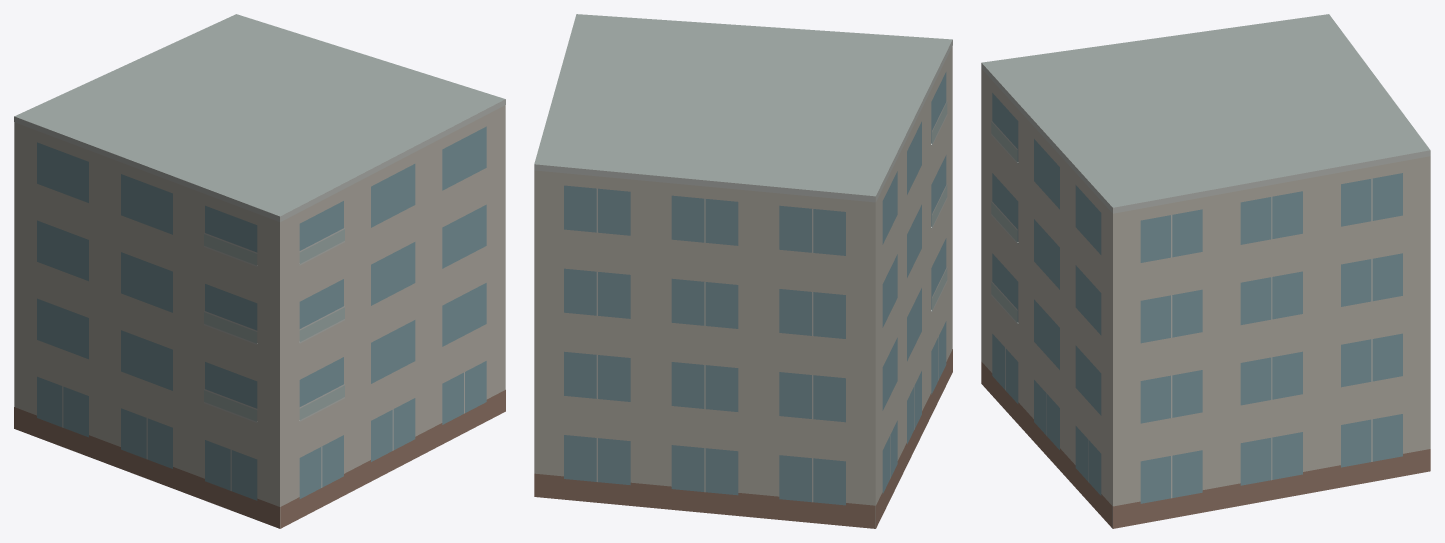
The model's file is survey-upis-32792430.glb.
3 renders of one model, left to right at view 1: azimuth 30°, elevation 25°; view 2: azimuth 150°, elevation 25°; view 3: azimuth 270°, elevation 25°, orthographic. The views are drawn at different scales.
Visible parts, largest first — view 1: survey-upis-32792430.tmp; view 2: survey-upis-32792430.tmp; view 3: survey-upis-32792430.tmp.
Boxes of the visible parts, x1=… form: survey-upis-32792430.tmp: x1=14, y1=14, x2=505, y2=528; survey-upis-32792430.tmp: x1=534, y1=14, x2=952, y2=528; survey-upis-32792430.tmp: x1=981, y1=14, x2=1430, y2=528.
Bounding box in the file's own units: 17.16 × 13.25 × 16.81.
